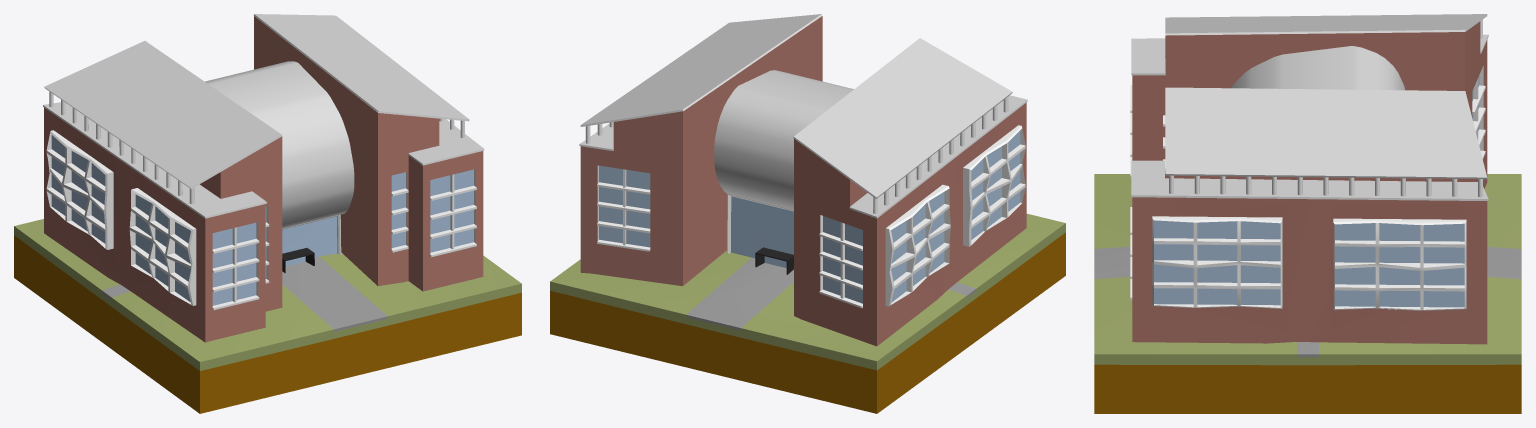
Rendered from BME_Q_Building-3D.gltf.
The picture shows the model from 3 angles, left to right: view 1: azimuth 30°, elevation 25°; view 2: azimuth 150°, elevation 25°; view 3: azimuth 270°, elevation 25°; orthographic projection. The views are drawn at different scales.
Parts seen in each view (by area): view 1: Base, Q_Building-Body, Q_Building-Roof, Q_Building-Windows, Q_Building-Middle, Q_Building-Window-Frames, Q_Building-Pillars, Q_Building-Roof-Border, Q_Building-Roof-Sup; view 2: Base, Q_Building-Body, Q_Building-Roof, Q_Building-Windows, Q_Building-Middle, Q_Building-Window-Frames, Q_Building-Pillars, Q_Building-Roof-Border, Q_Building-Roof-Sup, Q_Building-Door-Frames; view 3: Q_Building-Body, Base, Q_Building-Roof, Q_Building-Windows, Q_Building-Window-Frames, Q_Building-Middle, Q_Building-Roof-Border, Q_Building-Pillars, Q_Building-Roof-Sup.
Boxes of the visible parts, bbox=[...] form: Base: bbox=[14, 219, 521, 413]; Q_Building-Body: bbox=[44, 16, 483, 342]; Q_Building-Roof: bbox=[43, 14, 483, 216]; Q_Building-Windows: bbox=[51, 135, 473, 305]; Q_Building-Middle: bbox=[205, 61, 354, 228]; Q_Building-Window-Frames: bbox=[46, 105, 476, 310]; Q_Building-Pillars: bbox=[49, 91, 464, 203]; Q_Building-Roof-Border: bbox=[44, 14, 469, 188]; Q_Building-Roof-Sup: bbox=[43, 105, 484, 218]; Base: bbox=[550, 213, 1065, 413]; Q_Building-Body: bbox=[580, 16, 1026, 346]; Q_Building-Roof: bbox=[579, 14, 1027, 216]; Q_Building-Windows: bbox=[599, 130, 1020, 303]; Q_Building-Middle: bbox=[714, 70, 853, 209]; Q_Building-Window-Frames: bbox=[597, 125, 1025, 308]; Q_Building-Pillars: bbox=[585, 97, 1008, 213]; Q_Building-Roof-Border: bbox=[580, 14, 1012, 198]; Q_Building-Roof-Sup: bbox=[579, 100, 1027, 218]; Q_Building-Door-Frames: bbox=[755, 247, 793, 274]; Q_Building-Body: bbox=[1132, 21, 1487, 344]; Base: bbox=[1094, 174, 1521, 413]; Q_Building-Roof: bbox=[1131, 14, 1488, 198]; Q_Building-Windows: bbox=[1154, 75, 1479, 307]; Q_Building-Window-Frames: bbox=[1130, 58, 1485, 310]; Q_Building-Middle: bbox=[1231, 46, 1404, 90]; Q_Building-Roof-Border: bbox=[1165, 14, 1487, 179]; Q_Building-Pillars: bbox=[1169, 19, 1482, 197]; Q_Building-Roof-Sup: bbox=[1131, 35, 1488, 200].
Bounding box in the file's own units: 1.95 × 1.33 × 1.95.
